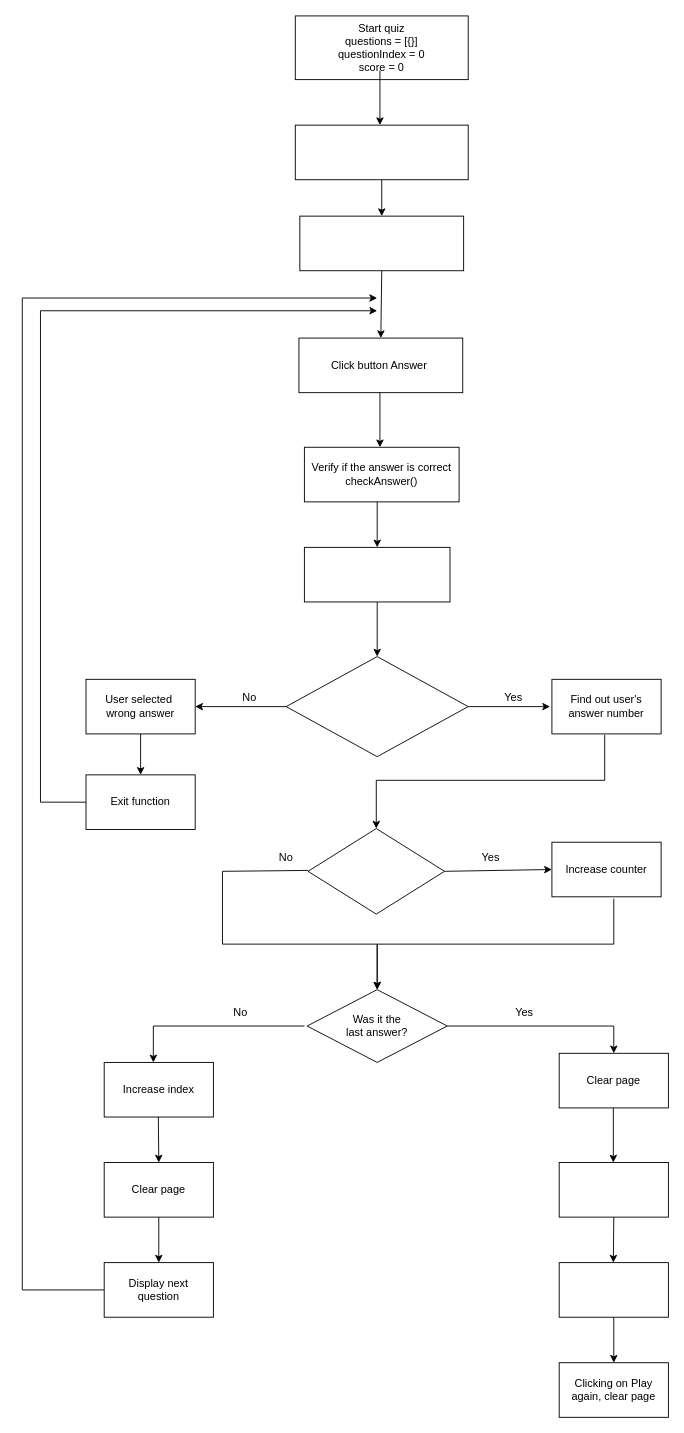
Image size: 684x1433. Some labels were removed from this diagram. The box of each missing label's shape, as (x1, y1, x2, y2) in pixels:
Change to button Play again: (558, 1262, 668, 1317)
Clear HTML: (294, 124, 468, 180)
Display results: (558, 1162, 668, 1217)
Find selected button: (303, 546, 450, 602)
Is answer correct!: (307, 828, 445, 914)
Render current question: (299, 215, 464, 271)
verification of the selected button: (285, 656, 468, 757)
